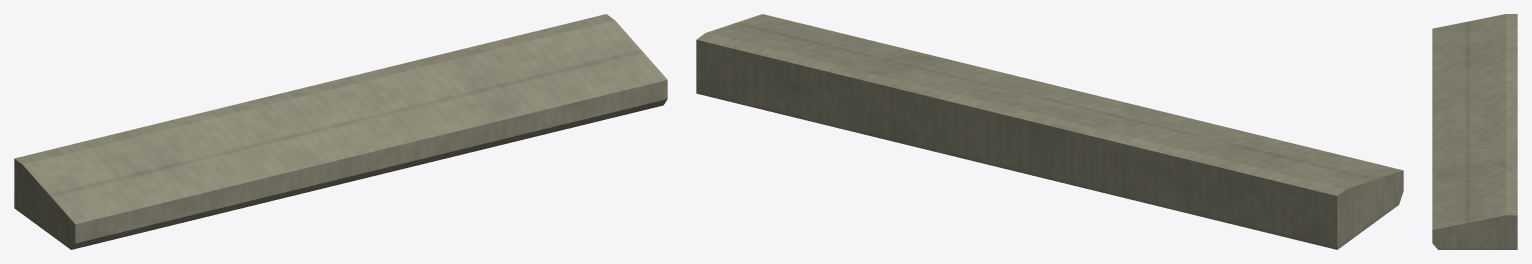
Rendered from residential-cedar-sill.lod1.glb.
The picture shows the model from 3 angles, left to right: view 1: azimuth 30°, elevation 25°; view 2: azimuth 150°, elevation 25°; view 3: azimuth 270°, elevation 25°; orthographic projection. The views are drawn at different scales.
Visible parts, largest first — view 1: residential-cedar-sill; view 2: residential-cedar-sill; view 3: residential-cedar-sill.
Boxes of the visible parts, x1,y1,x2,y2 form: residential-cedar-sill: (14, 14, 667, 249); residential-cedar-sill: (696, 14, 1403, 249); residential-cedar-sill: (1432, 14, 1517, 249).
Bounding box in the file's own units: 1.62 × 0.13 × 0.29.
Materials: 1 (1 with a texture image).
